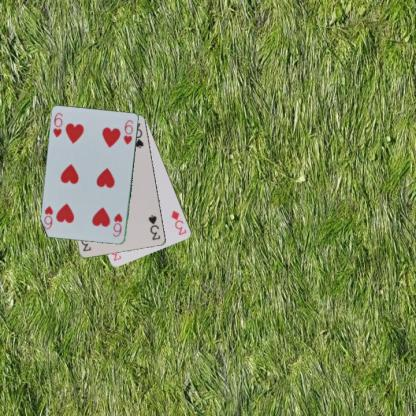3d: (168, 208, 187, 236)
3s: (146, 213, 162, 241)
6h: (110, 211, 124, 238), (51, 110, 64, 139)
